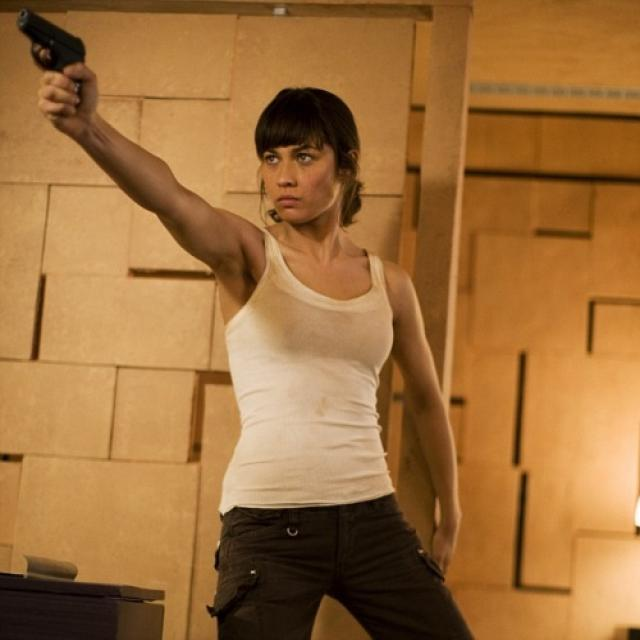weapons: (7, 0, 106, 131)
